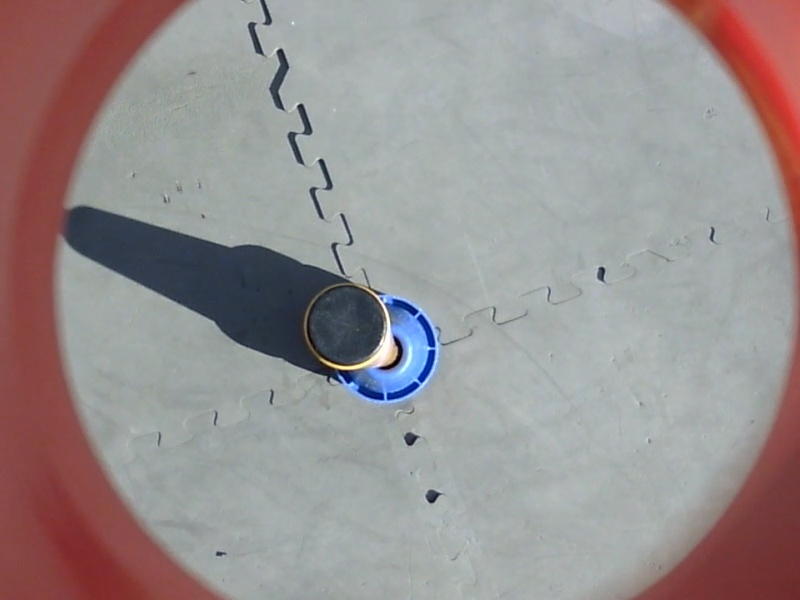tip: (296, 276, 398, 376)
